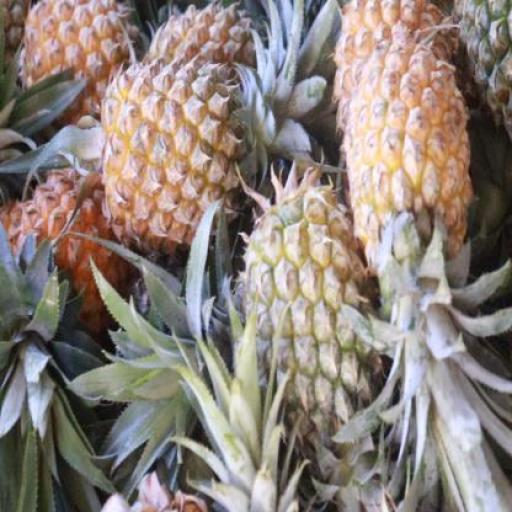------------------------------: (230, 189, 376, 439)
Pineapple - v8 v1: (347, 44, 469, 286), (100, 64, 238, 246), (16, 0, 135, 128)
